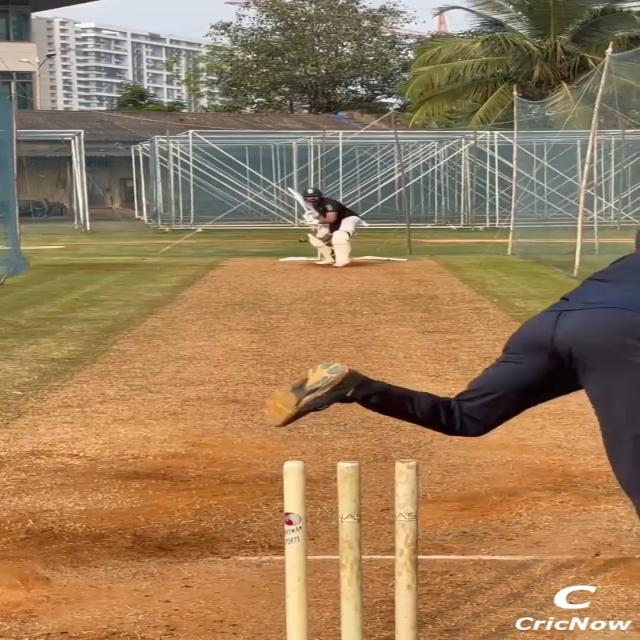ball: (299, 238, 308, 242)
stump: (273, 455, 425, 640)
